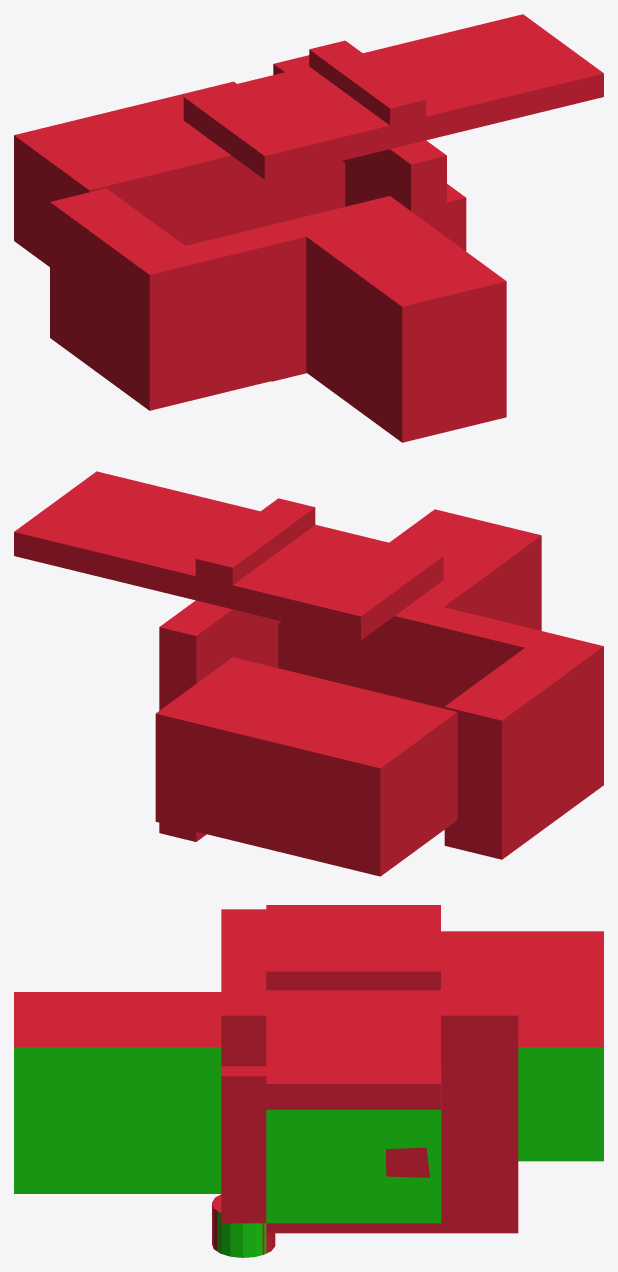
Rendered from artgallery_05.glb.
3 views of the same model, one above another, from view 1: azimuth 30°, elevation 25°; view 2: azimuth 150°, elevation 25°; view 3: azimuth 270°, elevation 25° (orthographic). The views are drawn at different scales.
Parts seen in each view (by area): view 1: Cube; view 2: Cube; view 3: Cube.
Boxes of the visible parts, x1,y1,x2,y2 form: Cube: (14, 14, 603, 442); Cube: (14, 471, 603, 876); Cube: (14, 905, 603, 1257).
Size of the model in its own units: 26.29 by 13.8 by 26.15.
